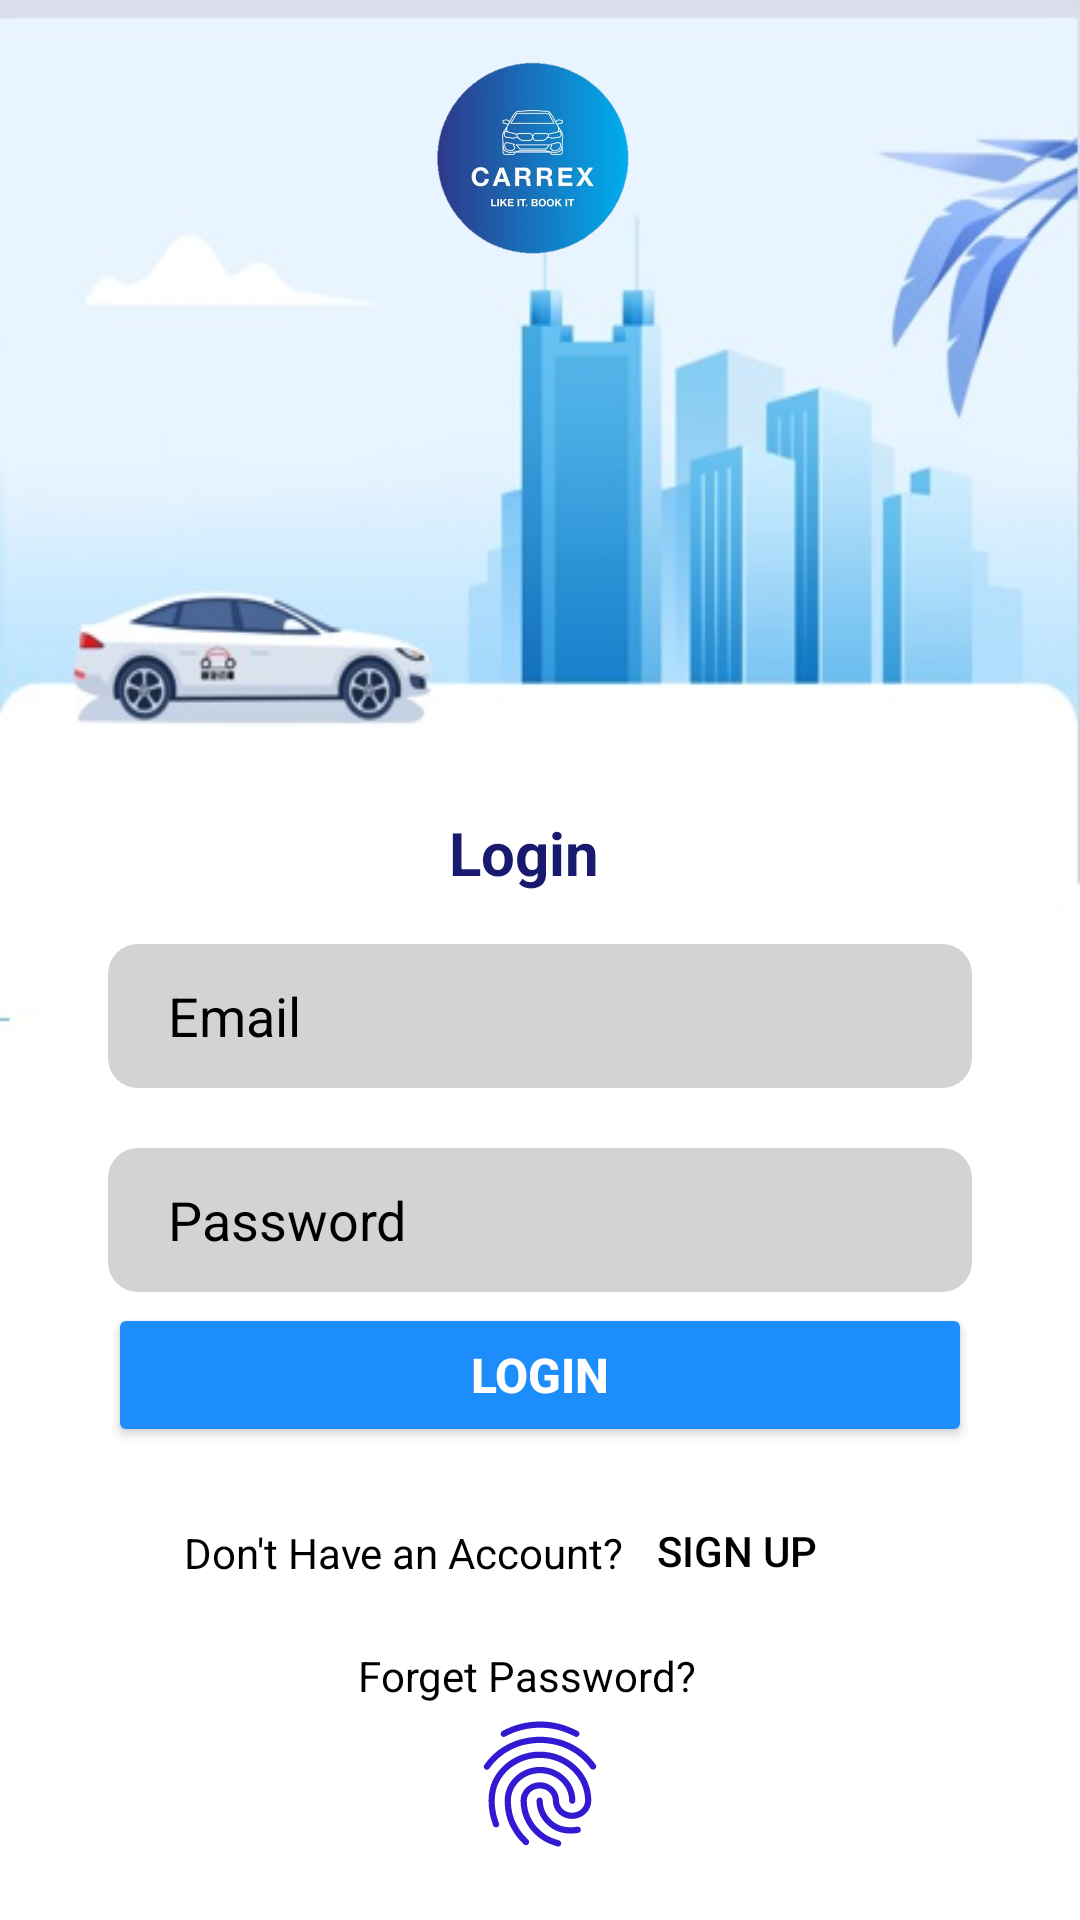

Locate icon controls on the screen. Image size 1080 x 1920, boxes as (x1, y1, x2, y2).
fingerprint: (483, 1721, 597, 1847)
